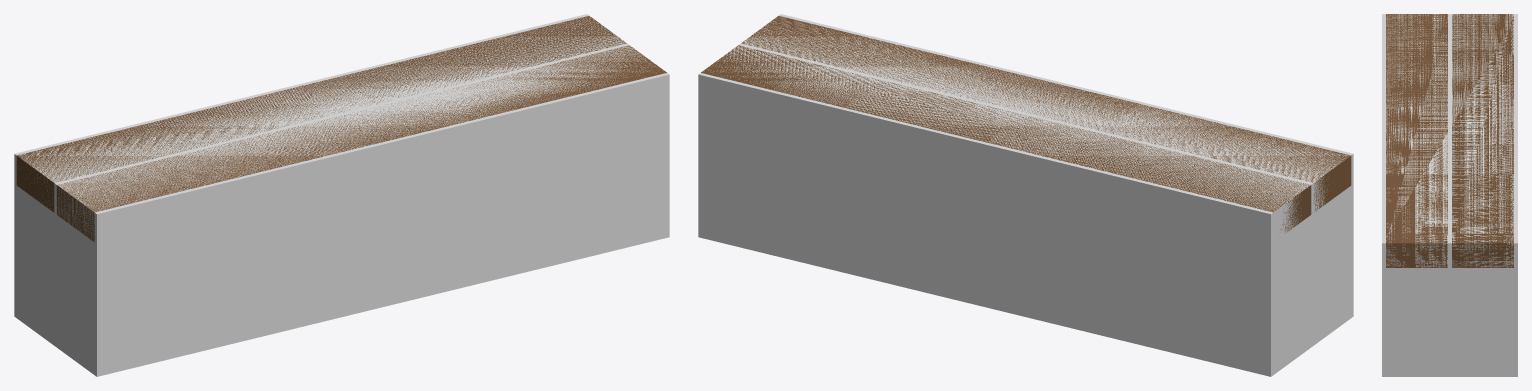
File: camp_bench.glb
The picture shows the model from 3 angles, left to right: view 1: azimuth 30°, elevation 25°; view 2: azimuth 150°, elevation 25°; view 3: azimuth 270°, elevation 25°; orthographic projection. The views are drawn at different scales.
Parts seen in each view (by area): view 1: camp_bench-col-col, Body; view 2: camp_bench-col-col, Body; view 3: camp_bench-col-col, Body.
Boxes of the visible parts, x1=… form: camp_bench-col-col: x1=14, y1=14, x2=669, y2=376; Body: x1=16, y1=15, x2=666, y2=242; camp_bench-col-col: x1=698, y1=14, x2=1353, y2=376; Body: x1=701, y1=16, x2=1351, y2=232; camp_bench-col-col: x1=1382, y1=14, x2=1517, y2=376; Body: x1=1386, y1=14, x2=1513, y2=267.
Bounding box in the file's own units: 2.8 × 0.76 × 0.7.
